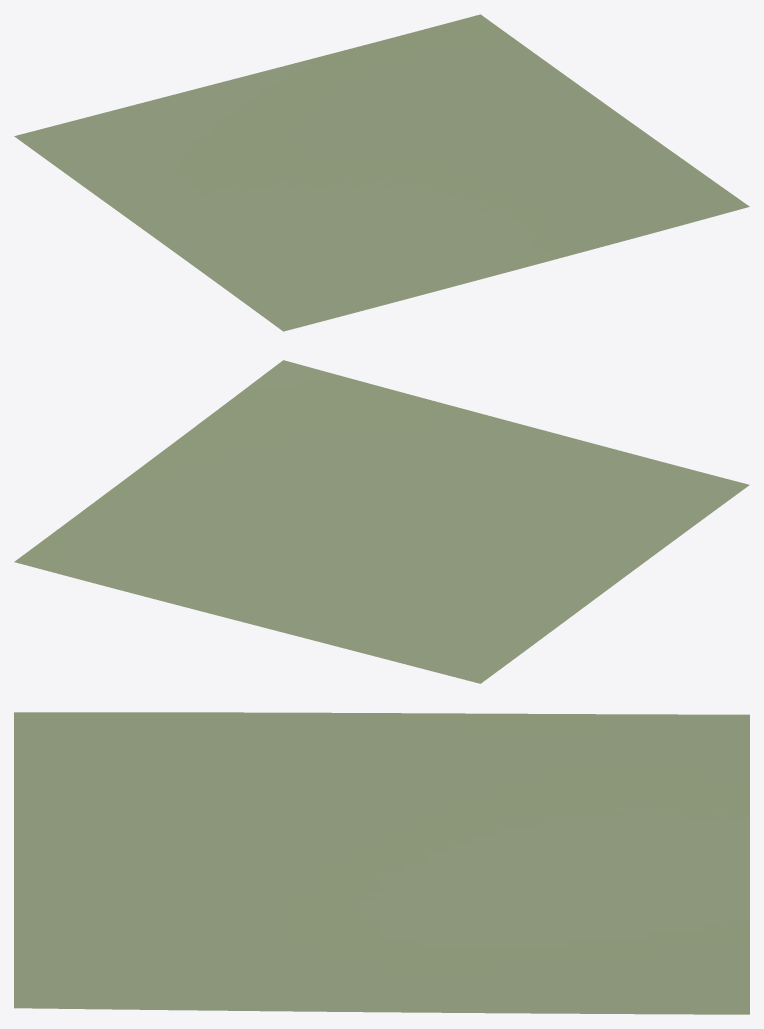
The model's file is desert-19-5.glb.
The picture shows the model from 3 angles, top to bottom: view 1: azimuth 30°, elevation 25°; view 2: azimuth 150°, elevation 25°; view 3: azimuth 270°, elevation 25°; orthographic projection. The views are drawn at different scales.
Parts seen in each view (by area): view 1: desert-19-5; view 2: desert-19-5; view 3: desert-19-5.
Part boxes in pixels (x1=…): desert-19-5: x1=14, y1=14, x2=749, y2=331; desert-19-5: x1=14, y1=360, x2=749, y2=683; desert-19-5: x1=14, y1=712, x2=749, y2=1014.
Size of the model in its own units: 512 by 13.41 by 512.
